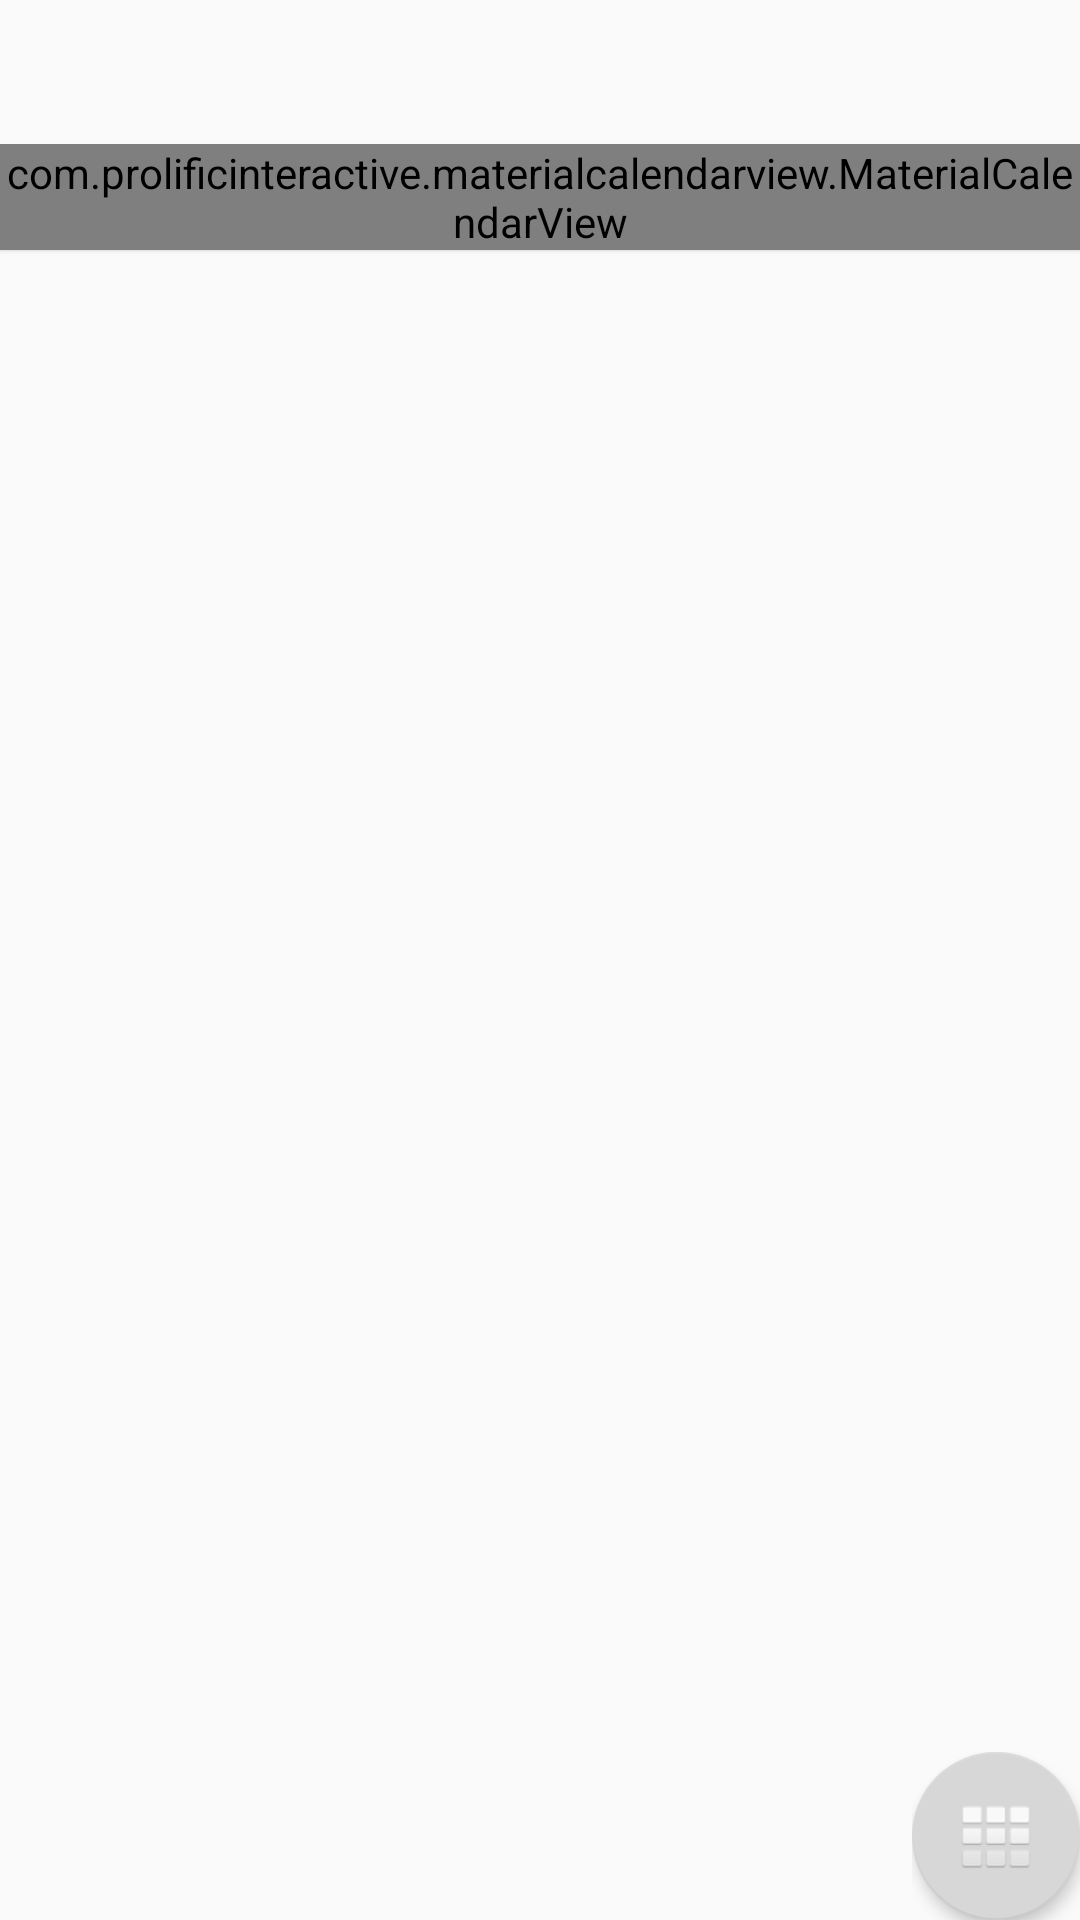

Locate icon controls on the screen. Image size 1080×1920, boxes as [x1, y1, x2, y2].
dialer: [912, 1752, 1080, 1920]
